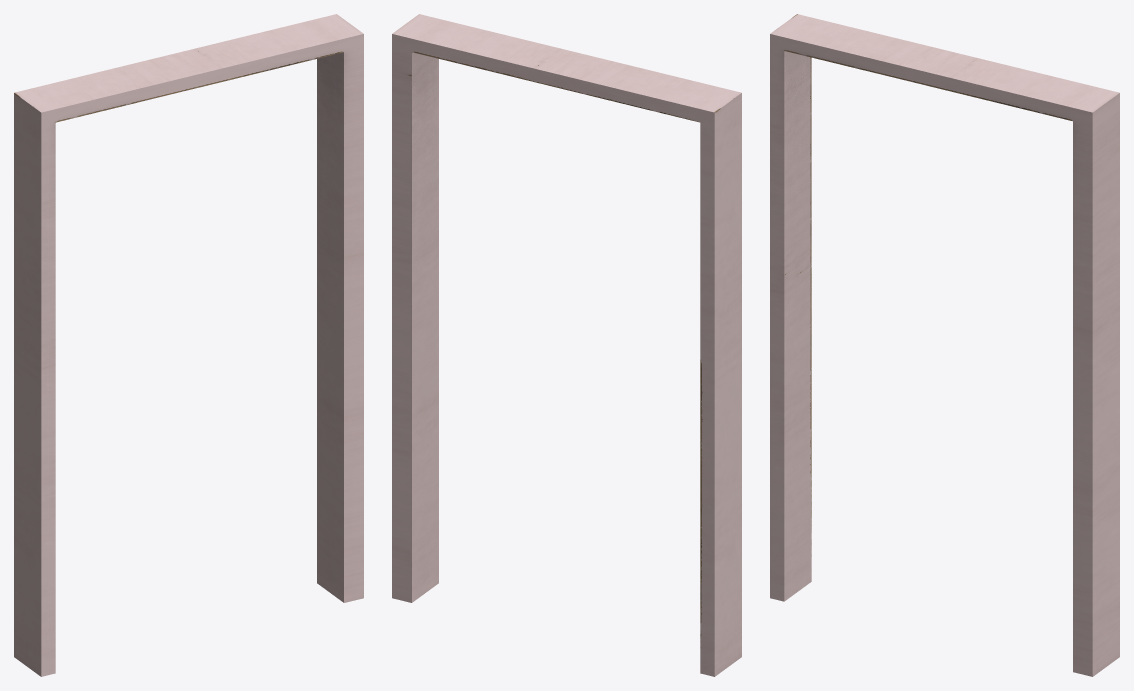
Rendered from doorframe.glb.
3 renders of one model, left to right at view 1: azimuth 30°, elevation 25°; view 2: azimuth 150°, elevation 25°; view 3: azimuth 330°, elevation 25°, orthographic.
Parts seen in each view (by area): view 1: pCube2; view 2: pCube2; view 3: pCube2.
Boxes of the visible parts, left/top/right/bottom form: pCube2: left=14, top=14, right=363, bottom=676; pCube2: left=392, top=14, right=741, bottom=676; pCube2: left=770, top=14, right=1119, bottom=676.
Size of the model in its own units: 2.24 by 3.74 by 0.3265.
1 material, 1 textured.
